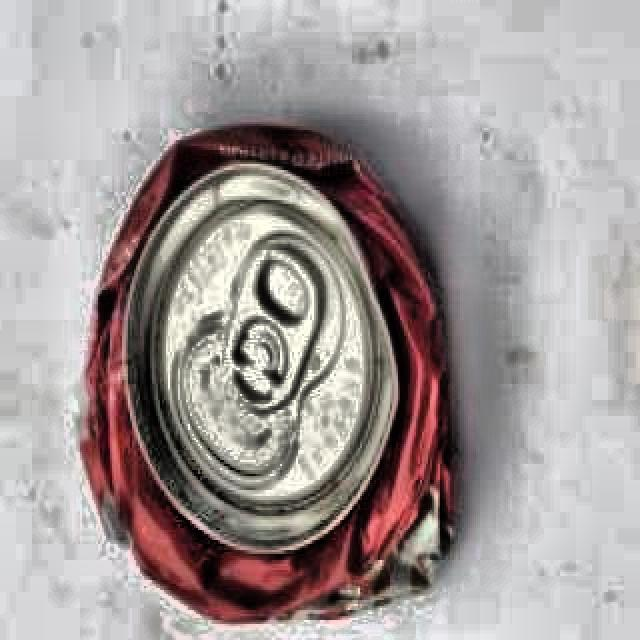metal: (66, 115, 469, 638)
